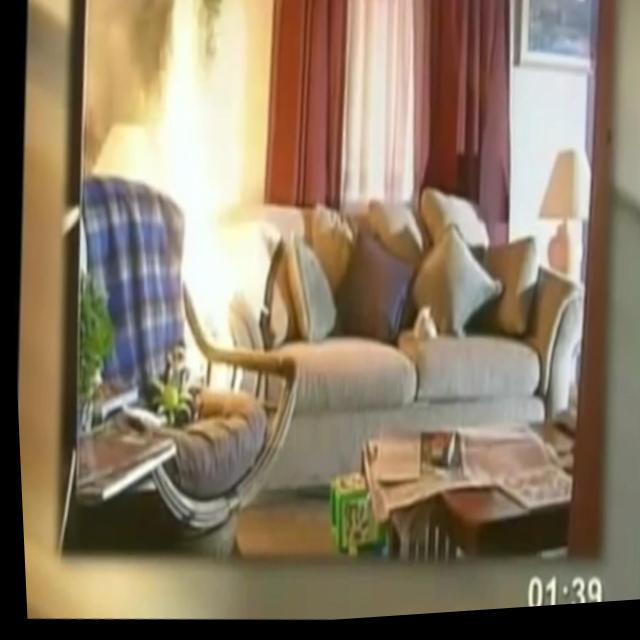fire: (146, 53, 266, 385)
